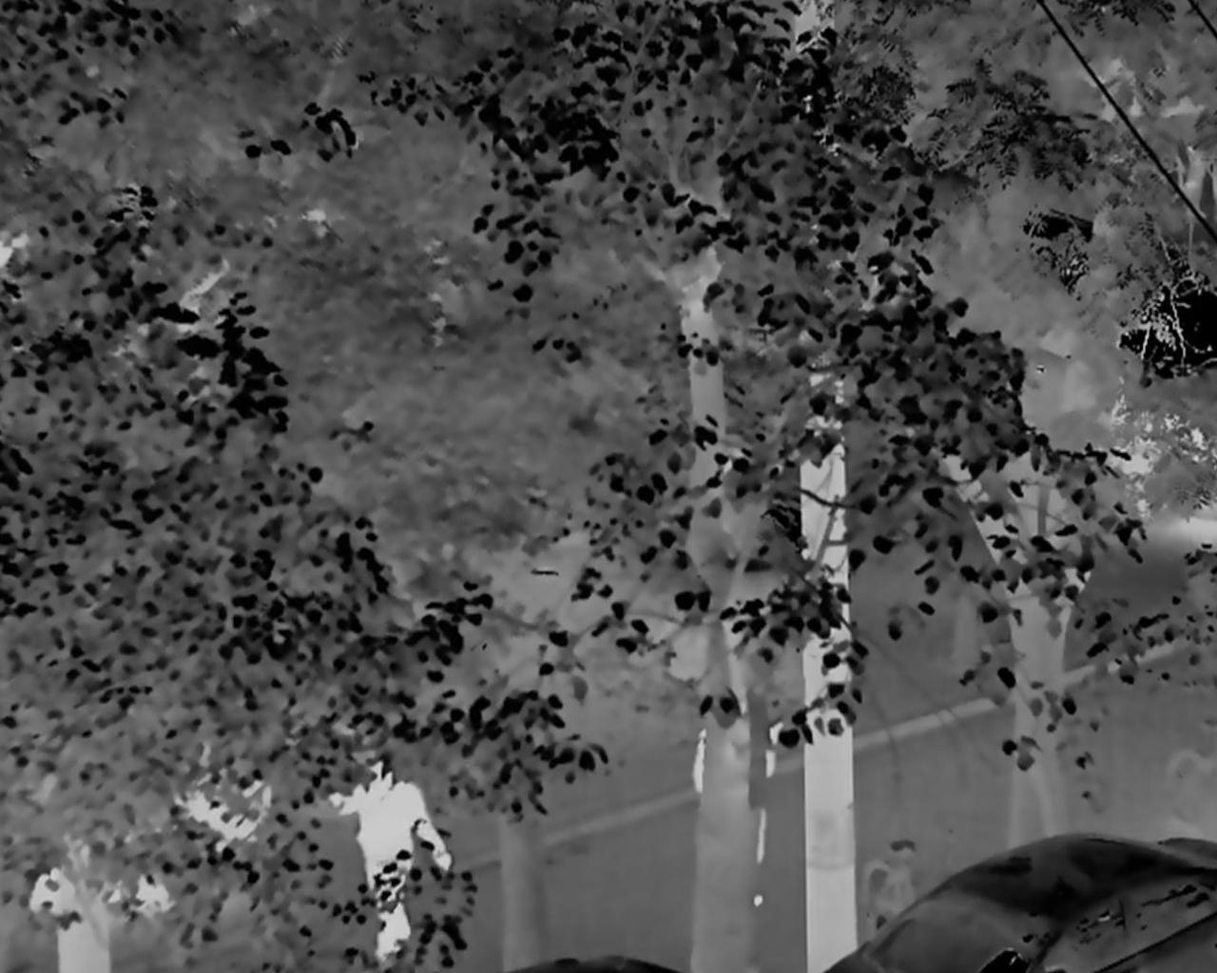person: (330, 755, 456, 973)
